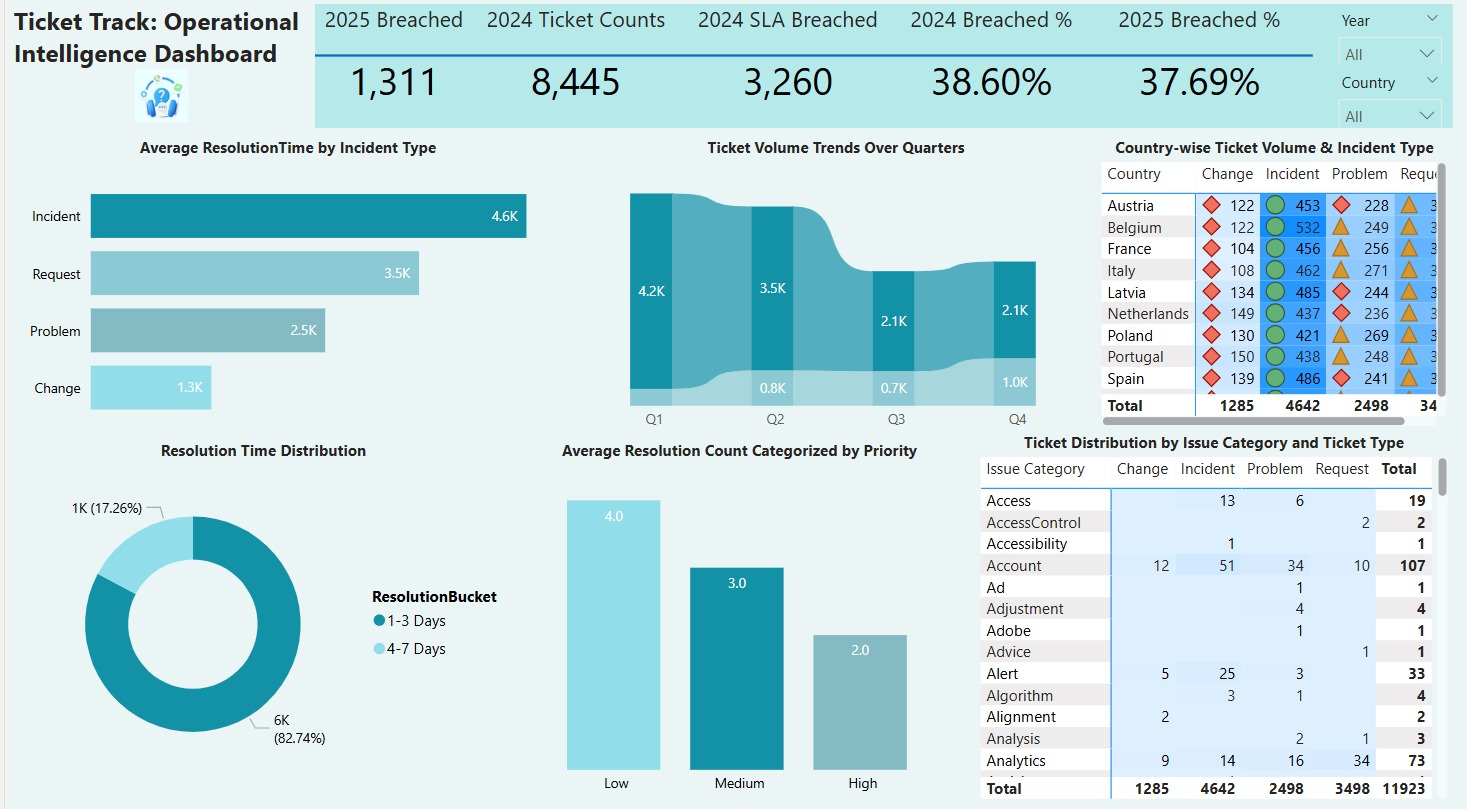

The page's visual inventory and layout, read from the dashboard file:
{"tool":"powerbi","page":{"name":"Dashboard2","canvas":[1280,720],"ordinal":1},"visuals":[{"type":"shape","box":[269.6,9.8,999.3,109.1],"z":0},{"type":"card","title":"2025  Breached","fields":{"Values":["Measures (2).SLABreach_2025_JanToMay"]},"box":[261.7,9.7,154.5,108.9],"z":1000},{"type":"card","title":"2024 Ticket Counts","fields":{"Values":["Measures (2).Tickets_2024"]},"box":[407.4,9.7,182.6,108.9],"z":2000},{"type":"card","title":"2024 SLA Breached","fields":{"Values":["Measures (2).SLABreach_2024"]},"box":[590.9,9.7,187.9,108.9],"z":3000},{"type":"card","title":"2024 Breached %","fields":{"Values":["Measures (2).SLABreachRate_2024"]},"box":[780.6,9.7,166,108.9],"z":4000},{"type":"shape","box":[269.6,45.7,876.3,18.4],"z":5000},{"type":"barChart","title":"Average ResolutionTime by Incident Type","fields":{"Category":["DimType.Ticket Type"],"Y":["Measures (2).TotalTickets"]},"box":[9.7,126.4,472.4,266],"z":6000},{"type":"ribbonChart","title":"Ticket Volume Trends Over Quarters","fields":{"Category":["Calendar.Quarter"],"Y":["Measures (2).TotalTickets","Sum(Calendar.Month Number)"]},"box":[498.7,126.4,456.6,266],"z":7000},{"type":"donutChart","title":"Resolution Time Distribution","fields":{"Category":["Fact Table.ResolutionBucket"],"Y":["Measures (2).TotalTickets"]},"box":[0,392.5,448.7,306.4],"z":8000},{"type":"pivotTable","title":"Country-wise Ticket Volume & Incident Type","fields":{"Rows":["DimCountry.Country"],"Values":["Measures (2).TotalTickets"],"Columns":["Fact Table.Ticket Type"]},"box":[955.3,126.4,313.5,259],"z":9000},{"type":"clusteredColumnChart","title":"Average Resolution Count Categorized by Priority","fields":{"Category":["DimPriority.Ticket Priority"],"Y":["Measures (2).AvgResolutionTime"]},"box":[442.5,392.5,399.5,319.6],"z":10000},{"type":"textbox","box":[0,4.4,269.6,114.1],"z":11000},{"type":"image","box":[90.4,61.5,89.6,57.1],"z":12000},{"type":"slicer","fields":{"Values":["Calendar.Year"]},"box":[1158.1,9.7,110.6,54.4],"z":13000},{"type":"slicer","fields":{"Values":["DimCountry.Country"]},"box":[1158.1,64.1,110.6,54.4],"z":14000},{"type":"card","title":"2025 Breached %","fields":{"Values":["Measures (2).SLABreachRate_2025_JanToMay"]},"box":[946.5,9.7,199.3,108.9],"z":15000},{"type":"pivotTable","title":"Ticket Distribution by Issue Category and Ticket Type","fields":{"Rows":["DimCategory.Issue Category"],"Values":["Measures (2).TotalTickets"],"Columns":["Fact Table.Ticket Type"]},"box":[849.1,385.5,419.7,326.6],"z":16000}]}

Visuals, with their boxes in screenshot pixels (x1, y1, x2, y2), scaled from the page's 1280x720 canvas onto the 1467x809 screenshot:
shape: [309,11,1454,134]
"2025  Breached" card: [300,11,477,133]
"2024 Ticket Counts" card: [467,11,676,133]
"2024 SLA Breached" card: [677,11,893,133]
"2024 Breached %" card: [895,11,1085,133]
shape: [309,51,1313,72]
"Average ResolutionTime by Incident Type" barChart: [11,142,553,441]
"Ticket Volume Trends Over Quarters" ribbonChart: [572,142,1095,441]
"Resolution Time Distribution" donutChart: [0,441,514,785]
"Country-wise Ticket Volume & Incident Type" pivotTable: [1095,142,1454,433]
"Average Resolution Count Categorized by Priority" clusteredColumnChart: [507,441,965,800]
textbox: [0,5,309,133]
image: [104,69,206,133]
slicer - Calendar.Year: [1327,11,1454,72]
slicer - DimCountry.Country: [1327,72,1454,133]
"2025 Breached %" card: [1085,11,1313,133]
"Ticket Distribution by Issue Category and Ticket Type" pivotTable: [973,433,1454,800]
